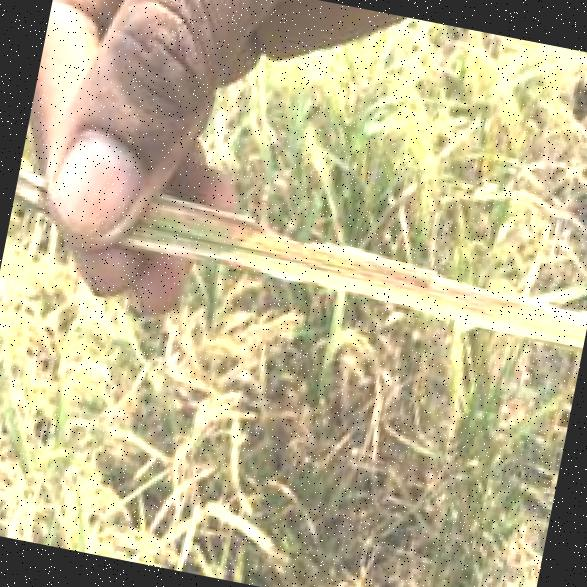Bacteria_Leaf_Blight: (120, 173, 578, 378)
